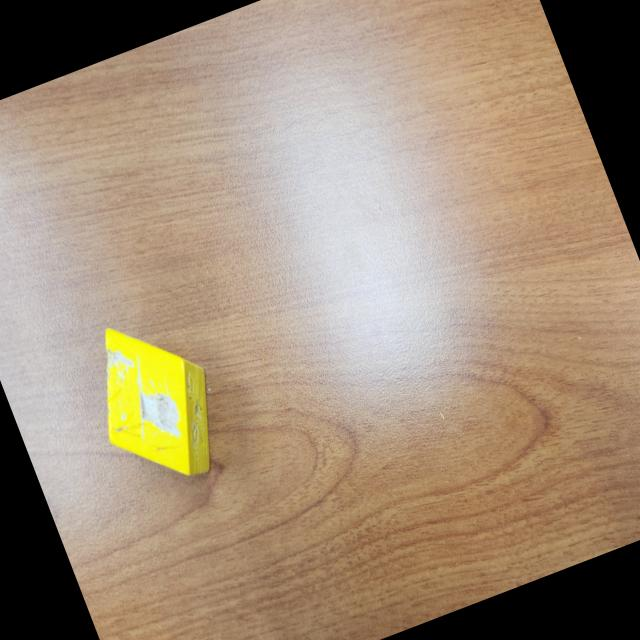broken: (70, 300, 240, 502)
